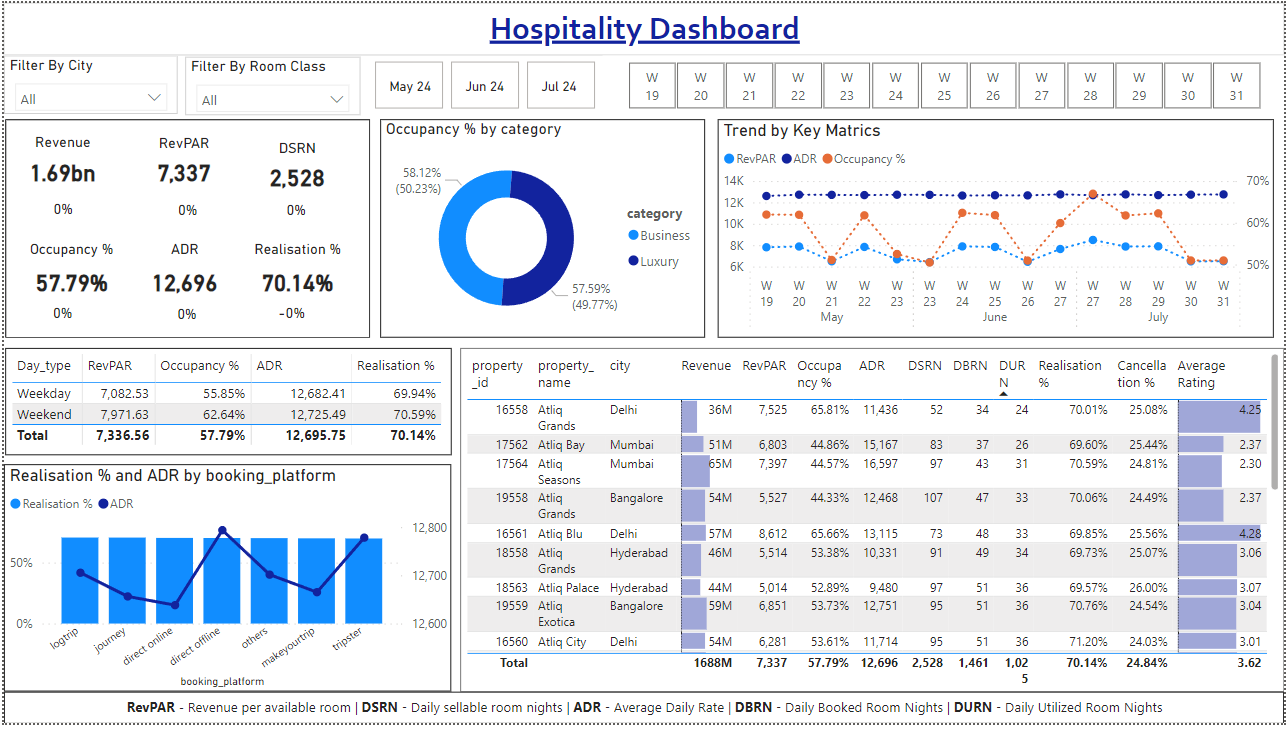

The page's visual inventory and layout, read from the dashboard file:
{"tool":"powerbi","page":{"name":"Home","canvas":[1280,720],"ordinal":0},"visuals":[{"type":"shape","box":[1.2,116.2,365,218.8],"z":0},{"type":"tableEx","fields":{"Values":["dim_hotels.property_id","dim_hotels.property_name","dim_hotels.city","key_measure.Revenue","key_measure.RevPAR","key_measure.Occupancy %","key_measure.ADR","key_measure.DSRN","key_measure.DBRN","key_measure.DURN","key_measure.Realisation %","key_measure.Cancellation %"]},"box":[456.2,345,823.8,343.8],"z":1000},{"type":"slicer","title":"Filter By City","fields":{"Values":["dim_hotels.city"]},"box":[0,52.5,173.8,58.8],"z":2000},{"type":"textbox","box":[0,0,1279.9,52.6],"z":3000},{"type":"slicer","title":"Filter By Room Class","fields":{"Values":["dim_rooms.room_class"]},"box":[181.2,53.8,175,58.8],"z":4000},{"type":"advancedSlicerVisual","title":"Month","fields":{"Values":["dim_date.mmm yy"]},"box":[366.2,53.8,232.5,57.5],"z":5000},{"type":"slicer","title":"Week No.","fields":{"Values":["dim_date.week no"]},"box":[598.8,52.5,681.2,60],"z":6000},{"type":"card","title":"Revenue","fields":{"Values":["key_measure.Revenue"]},"box":[8.8,130,100,62.5],"z":7000},{"type":"card","fields":{"Values":["key_measure.Revenue WoW change %"]},"box":[27.5,191.2,63.8,31.2],"z":8000},{"type":"donutChart","fields":{"Category":["dim_hotels.category"],"Y":["key_measure.Occupancy %"]},"box":[376.2,116.2,325,218.8],"z":9000},{"type":"card","title":"RevPAR","fields":{"Values":["key_measure.RevPAR"]},"box":[136.2,131.2,87.5,60],"z":10000},{"type":"card","fields":{"Values":["key_measure.Revpar WoW change %"]},"box":[151.2,192.5,65,31.2],"z":11000},{"type":"card","title":"DSRN","fields":{"Values":["key_measure.DSRN"]},"box":[239.6,135.7,106.3,59.9],"z":12000},{"type":"card","fields":{"Values":["key_measure.DSRN WoW change %"]},"box":[254.3,191.9,77,31.8],"z":13000},{"type":"card","title":"Occupancy %","fields":{"Values":["key_measure.Occupancy %"]},"box":[8.8,237.5,117.5,67.5],"z":14000},{"type":"card","fields":{"Values":["key_measure.Occupancy WoW change %"]},"box":[27.5,293.8,62.5,35],"z":15000},{"type":"card","title":"ADR","fields":{"Values":["key_measure.ADR"]},"box":[127.5,237.5,106.2,67.5],"z":16000},{"type":"card","fields":{"Values":["key_measure.ADR WoW change %"]},"box":[151.2,297.5,63.8,28.8],"z":17000},{"type":"card","title":"Realisation %","fields":{"Values":["key_measure.Realisation %"]},"box":[231,237.1,124.7,67.2],"z":18000},{"type":"card","fields":{"Values":["key_measure.Realisation WoW change %"]},"box":[253.8,293.8,67.5,35],"z":19000},{"type":"lineChart","title":"Trend by Key Matrics","fields":{"Y":["key_measure.RevPAR","key_measure.ADR"],"Y2":["key_measure.Occupancy %"],"Category":["dim_date.mmm yy.Variation.Date Hierarchy.Month","dim_date.week no"]},"box":[713.8,116.2,556.2,218.8],"z":20000},{"type":"lineClusteredColumnComboChart","fields":{"Y":["key_measure.Realisation %"],"Category":["fact_bookings.booking_platform"],"Y2":["key_measure.ADR"]},"box":[0,461.2,447.5,227.5],"z":21000},{"type":"tableEx","fields":{"Values":["dim_date.Day_type","key_measure.RevPAR","key_measure.Occupancy %","key_measure.ADR","key_measure.Realisation %"]},"box":[1.2,345,446.2,107.5],"z":22000},{"type":"textbox","box":[0,688.2,1279.9,31.8],"z":23000}]}

Visuals, with their boxes in screenshot pixels (x1, y1, x2, y2), scaled from the page's 1280x720 canvas onto the 1288x734 screenshot:
shape: 1 118 368 342
tableEx - dim_hotels.property_id x dim_hotels.property_name: 459 352 1287 702
"Filter By City" slicer: 0 54 175 113
textbox: 0 0 1287 54
"Filter By Room Class" slicer: 182 55 358 115
"Month" advancedSlicerVisual: 368 55 602 113
"Week No." slicer: 603 54 1287 115
"Revenue" card: 9 133 109 196
card - key_measure.Revenue WoW change %: 28 195 92 227
donutChart - dim_hotels.category x key_measure.Occupancy %: 379 118 706 342
"RevPAR" card: 137 134 225 195
card - key_measure.Revpar WoW change %: 152 196 218 228
"DSRN" card: 241 138 348 199
card - key_measure.DSRN WoW change %: 256 196 333 228
"Occupancy %" card: 9 242 127 311
card - key_measure.Occupancy WoW change %: 28 300 91 335
"ADR" card: 128 242 235 311
card - key_measure.ADR WoW change %: 152 303 216 333
"Realisation %" card: 232 242 358 310
card - key_measure.Realisation WoW change %: 255 300 323 335
"Trend by Key Matrics" lineChart: 718 118 1278 342
lineClusteredColumnComboChart - key_measure.Realisation % x fact_bookings.booking_platform: 0 470 450 702
tableEx - dim_date.Day_type x key_measure.RevPAR: 1 352 450 461
textbox: 0 702 1287 733
